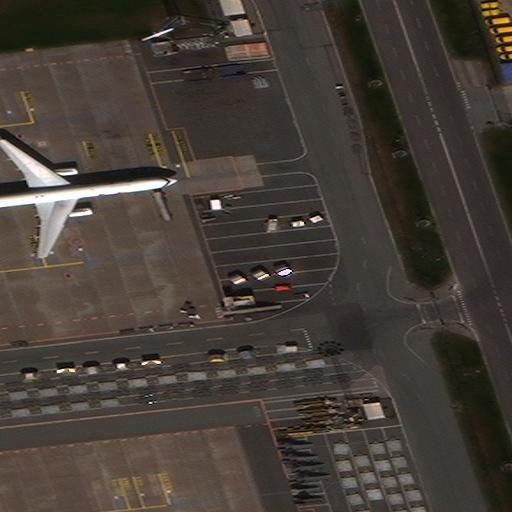Large Civil Transport: (0, 138, 178, 262)
